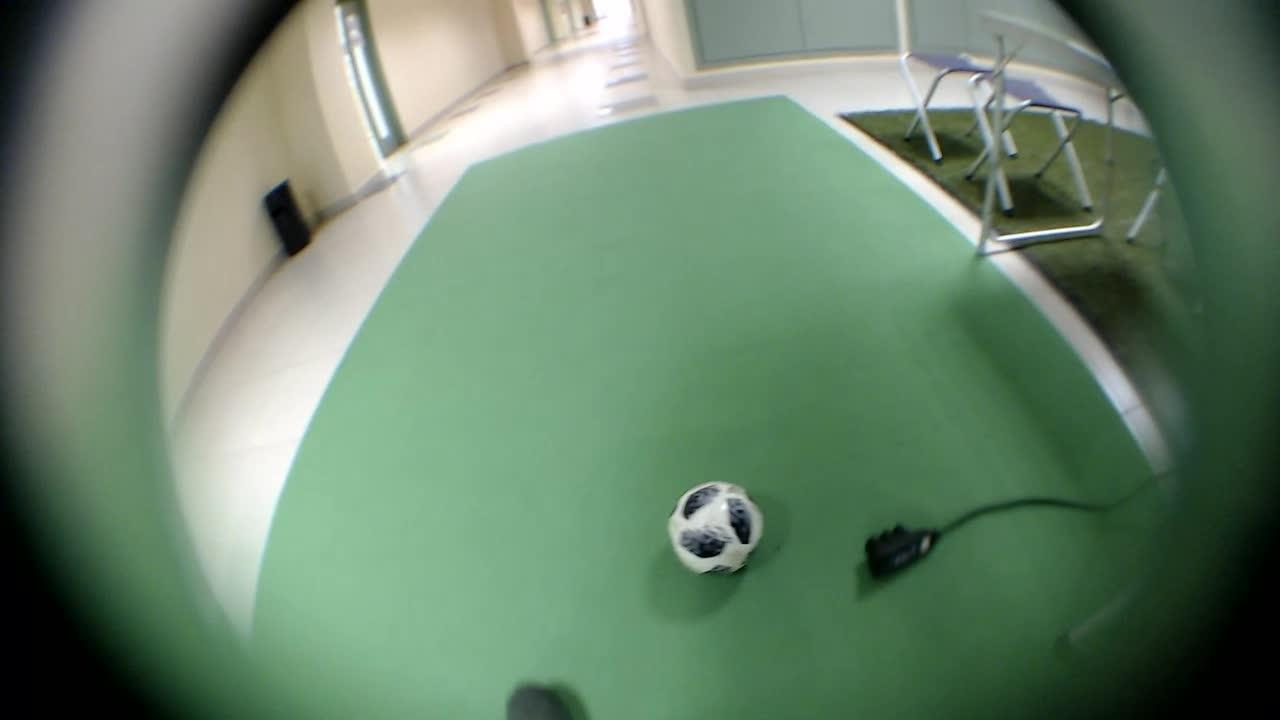ball: (655, 463, 775, 586)
